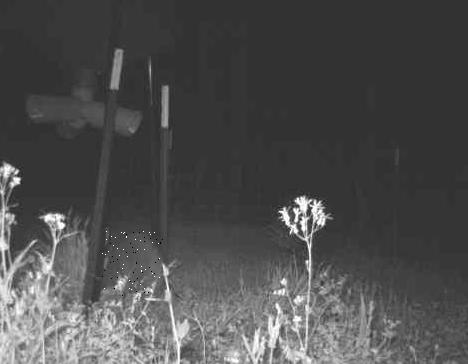Raccoon: (101, 232, 162, 298)
